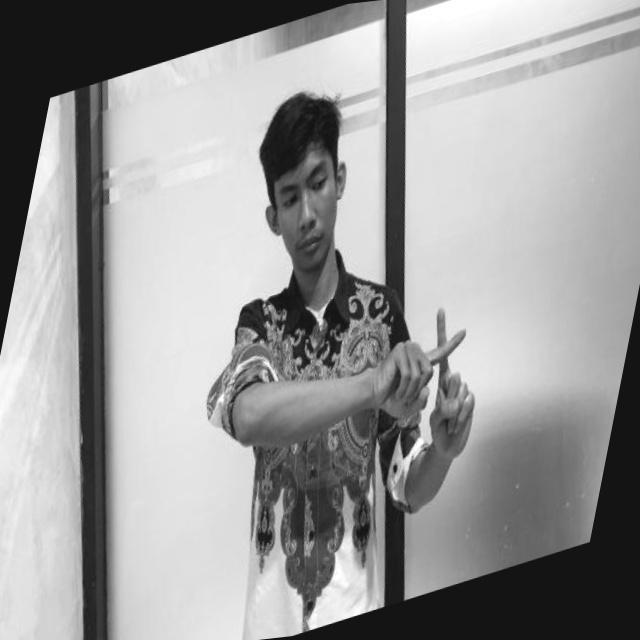X: (362, 293, 492, 480)
